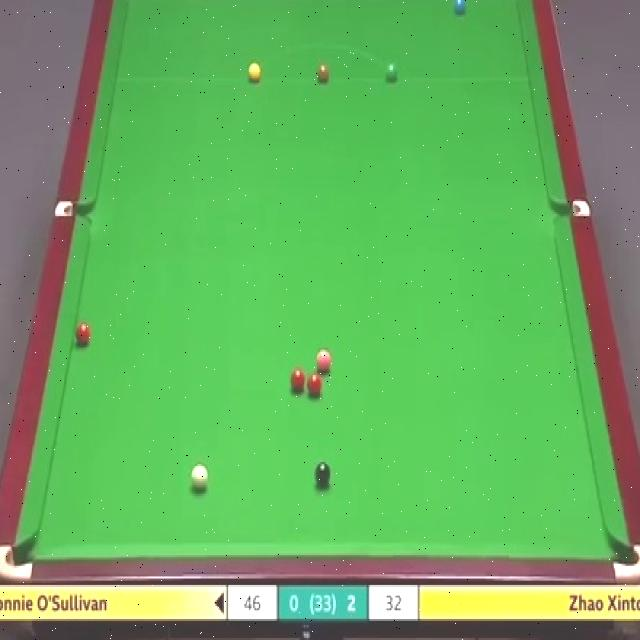black-ball: (313, 459, 332, 486)
blue-ball: (452, 0, 466, 13)
brown-ball: (315, 60, 331, 82)
green-ball: (383, 62, 398, 83)
pink-ball: (315, 347, 332, 372)
red-ball: (74, 322, 92, 346), (306, 372, 323, 397), (290, 366, 306, 389)
white-ball: (190, 462, 209, 490)
yellow-ball: (247, 59, 262, 82)
